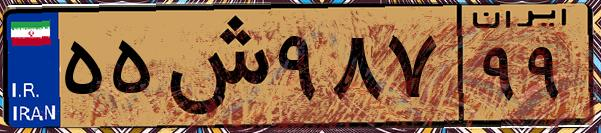5: (57, 26, 110, 100), (110, 28, 158, 98)
7: (385, 28, 445, 110)
8: (330, 28, 385, 110)
9: (270, 28, 330, 110), (475, 38, 525, 113), (525, 38, 570, 115)
ش: (158, 12, 270, 120)
